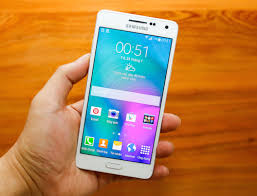samsung: (72, 5, 179, 178)
